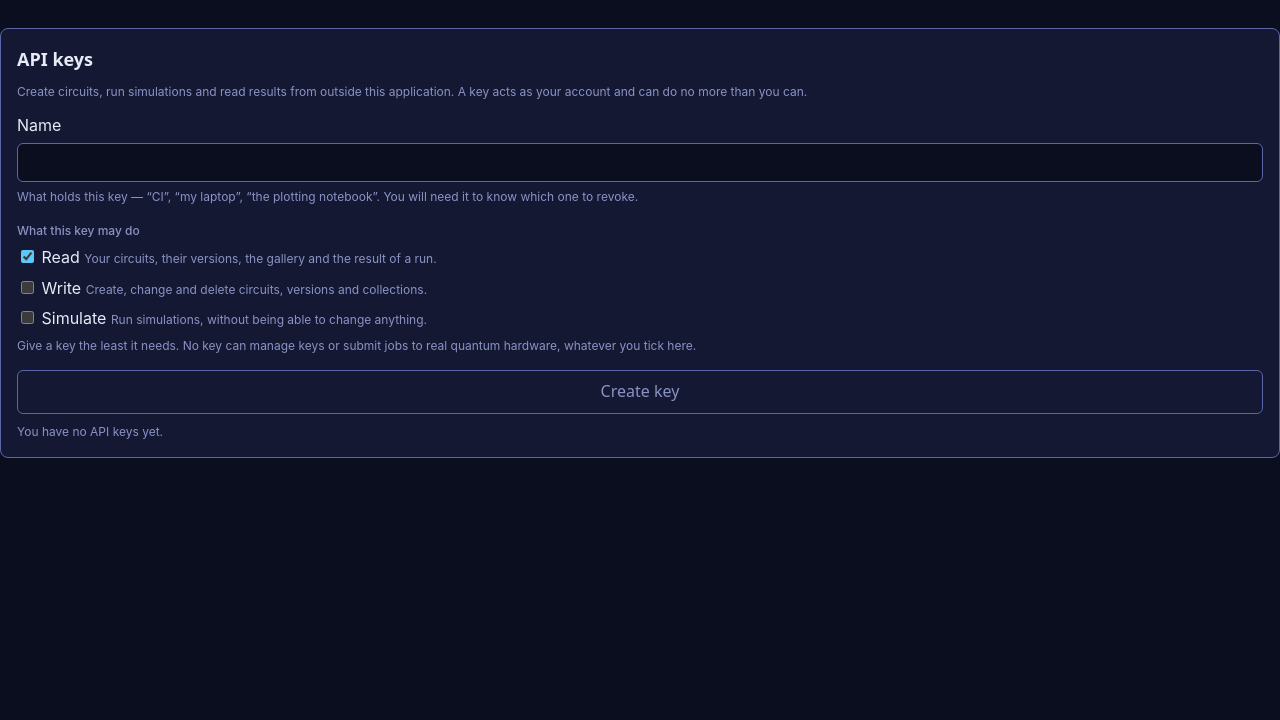
Scenario: the minted key › is gone once dismissed, and nothing brings it back
Check: the text "You have no API keys yet." is shown, box [17,424,163,439]
Step 1. Type "CI" into the field labelled "Name" → (640, 163), box [17,143,1263,182]
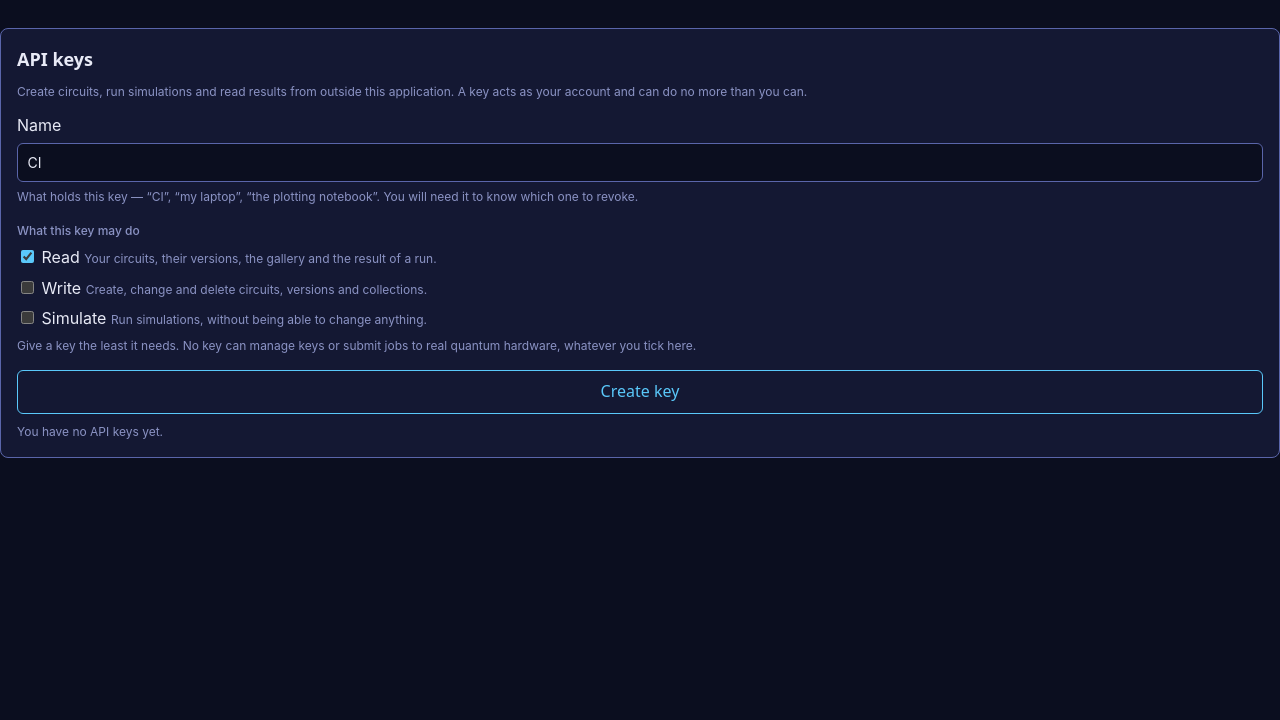
Step 2. Click the button "Create key" → (640, 392), box [17,370,1263,414]
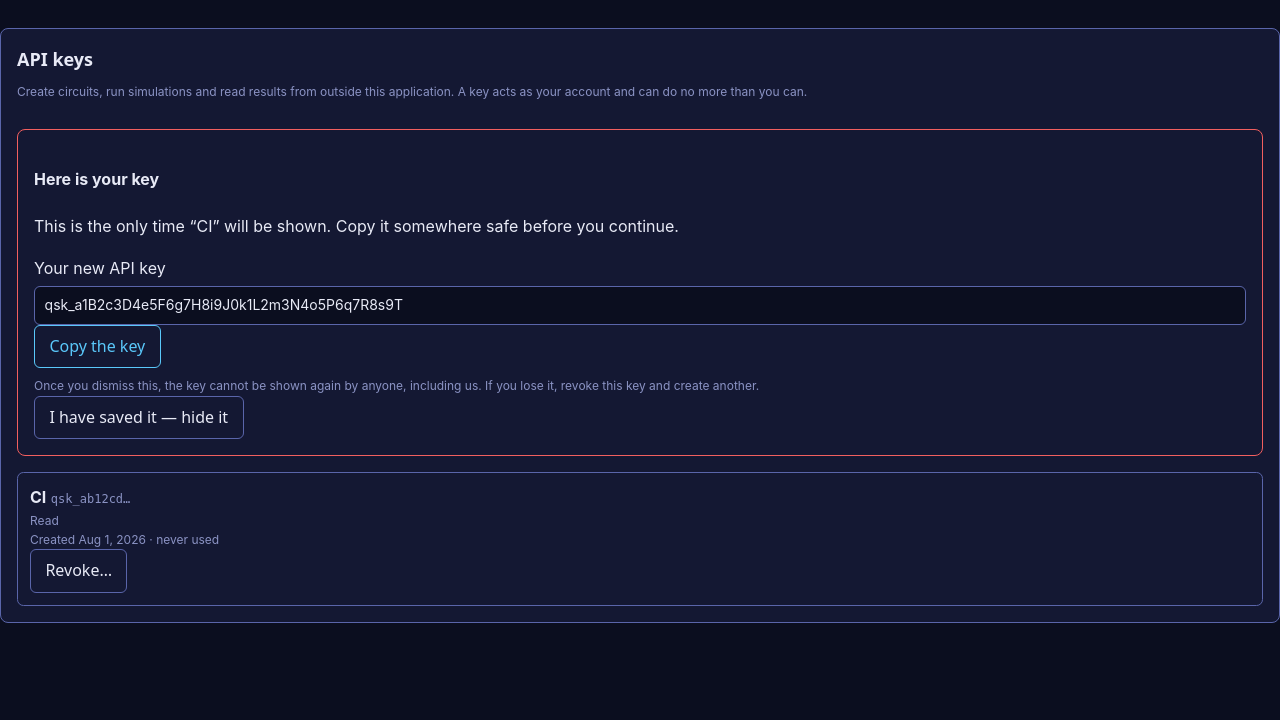
Check: the heading "Here is your key" is shown, box [34,169,159,189]
Step 3. Click the button "I have saved it — hide it" → (139, 417), box [34,396,244,439]
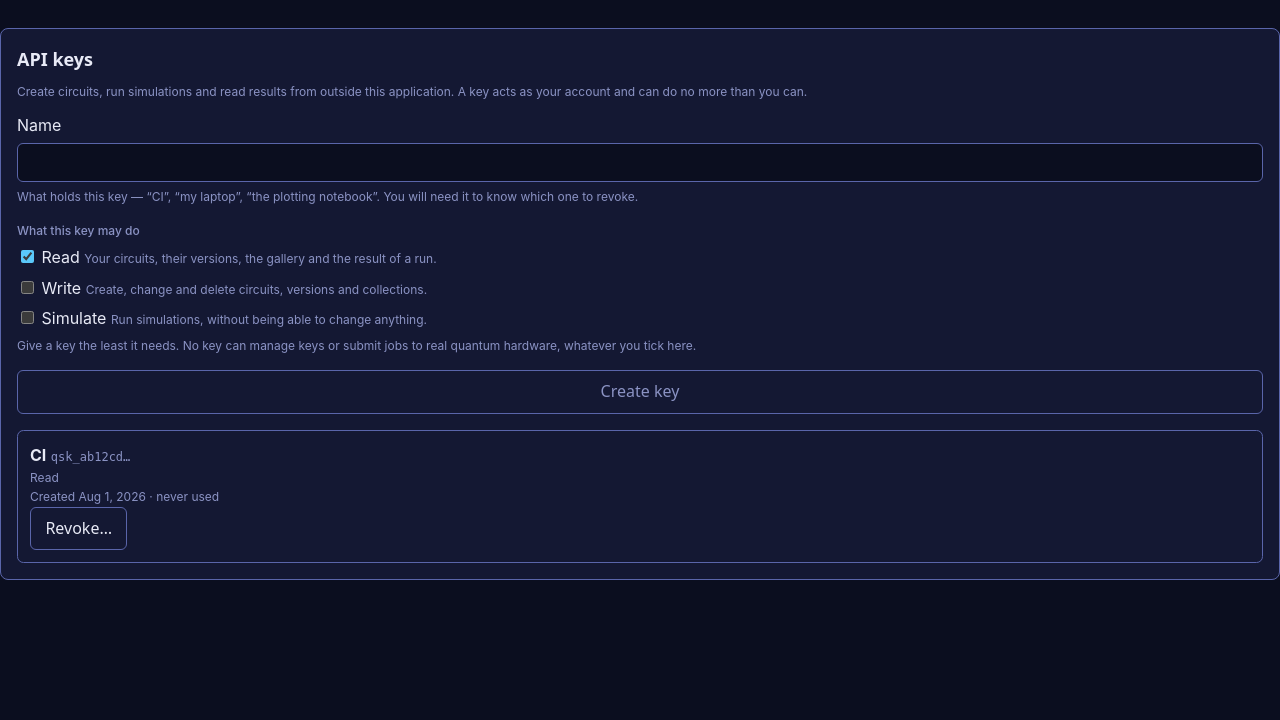
Check: the label labelled "Your new API key" is gone
Check: the field labelled "Name" is shown, box [17,143,1263,182]
